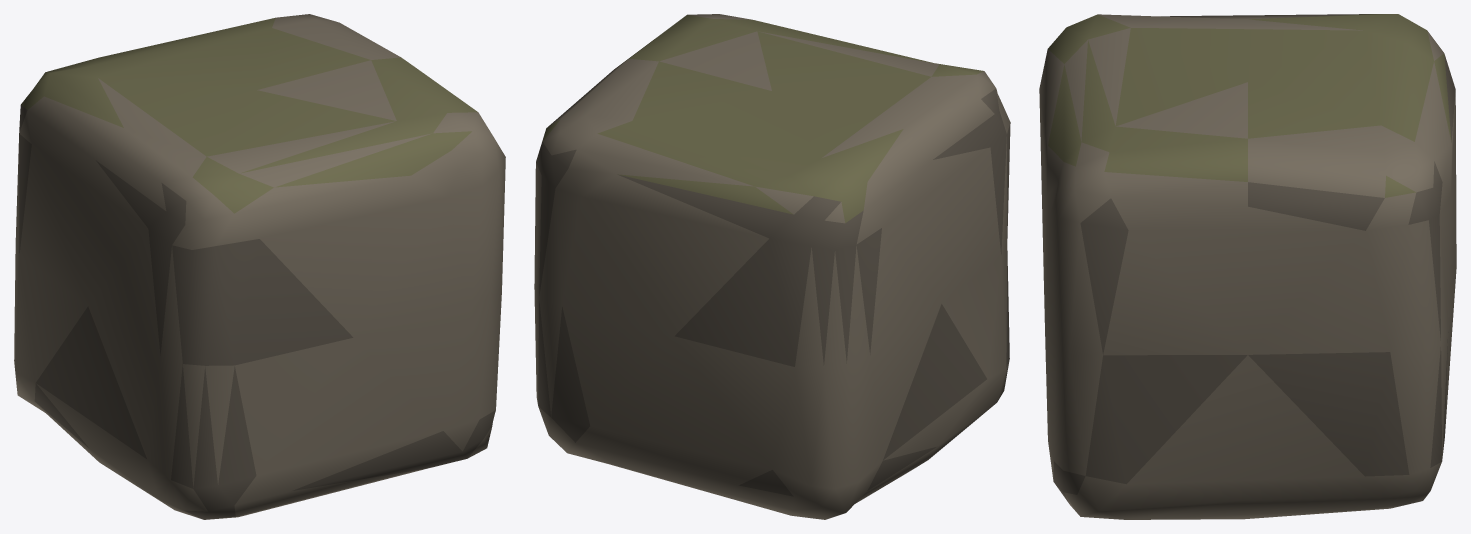
Rendered from earth_bank.glb.
3 renders of one model, left to right at view 1: azimuth 30°, elevation 25°; view 2: azimuth 150°, elevation 25°; view 3: azimuth 270°, elevation 25°, orthographic. The views are drawn at different scales.
Parts seen in each view (by area): view 1: EarthBank; view 2: EarthBank; view 3: EarthBank.
Boxes of the visible parts, x1=… form: EarthBank: x1=14, y1=14, x2=505, y2=519; EarthBank: x1=534, y1=14, x2=1010, y2=519; EarthBank: x1=1039, y1=14, x2=1456, y2=519.
Bounding box in the file's own units: 1 × 1 × 1.
